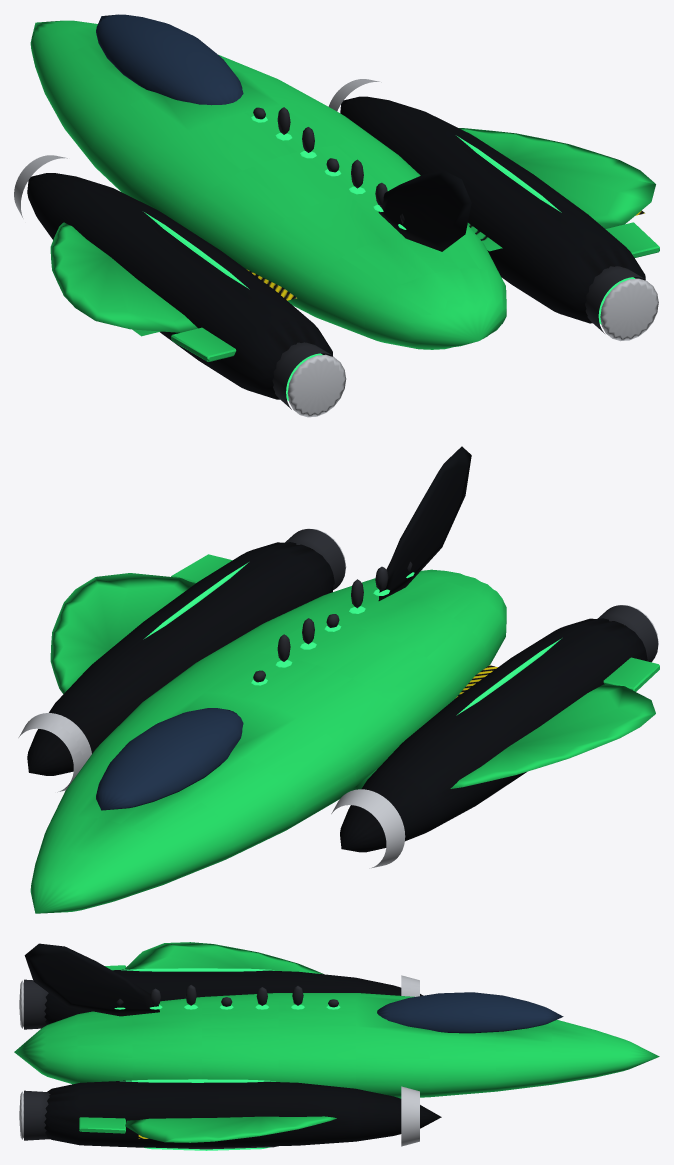
File: craft_2.glb
3 renders of one model, top to bottom at view 1: azimuth 30°, elevation 25°; view 2: azimuth 150°, elevation 25°; view 3: azimuth 270°, elevation 25°, orthographic. The views are drawn at different scales.
Parts seen in each view (by area): view 1: craft_2_body, craft_2_canopy, flap_L_plate.002, flap_R_plate.002; view 2: craft_2_body, craft_2_canopy, flap_L_plate.002, flap_R_plate.002; view 3: craft_2_body, craft_2_canopy, flap_R_plate.002.
Part boxes in pixels (x1,y1,x2,y2): craft_2_body: (14, 20, 658, 417); craft_2_canopy: (96, 14, 243, 105); flap_L_plate.002: (171, 327, 236, 361); flap_R_plate.002: (605, 222, 659, 257); craft_2_body: (18, 446, 658, 913); craft_2_canopy: (96, 708, 243, 810); flap_L_plate.002: (603, 657, 659, 691); flap_R_plate.002: (171, 554, 232, 583); craft_2_body: (14, 942, 659, 1150); craft_2_canopy: (377, 992, 563, 1033); flap_R_plate.002: (79, 1117, 125, 1133).
Size of the model in its own units: 5.6 by 1.9 by 7.62.
Materials: 8 (1 with a texture image).
